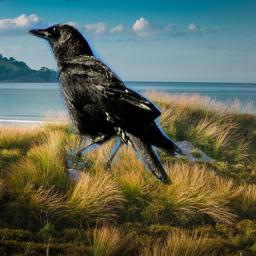Crow: (20, 21, 185, 188)
